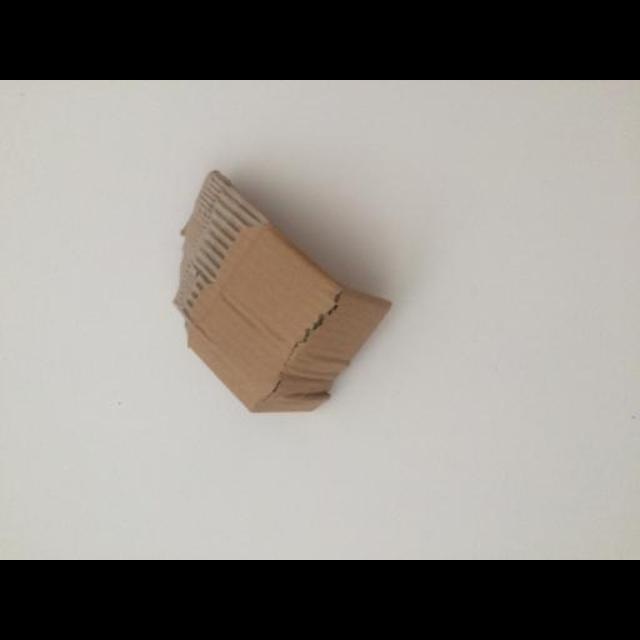papelão: (174, 167, 394, 411)
